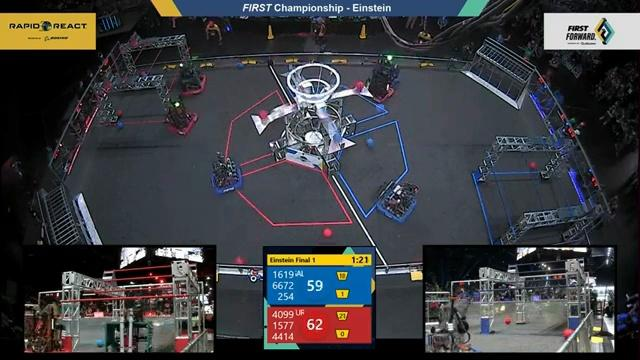robot: (370, 177, 421, 225), (156, 96, 202, 139), (207, 149, 246, 198), (366, 50, 403, 91), (170, 59, 209, 97), (360, 71, 396, 106)
